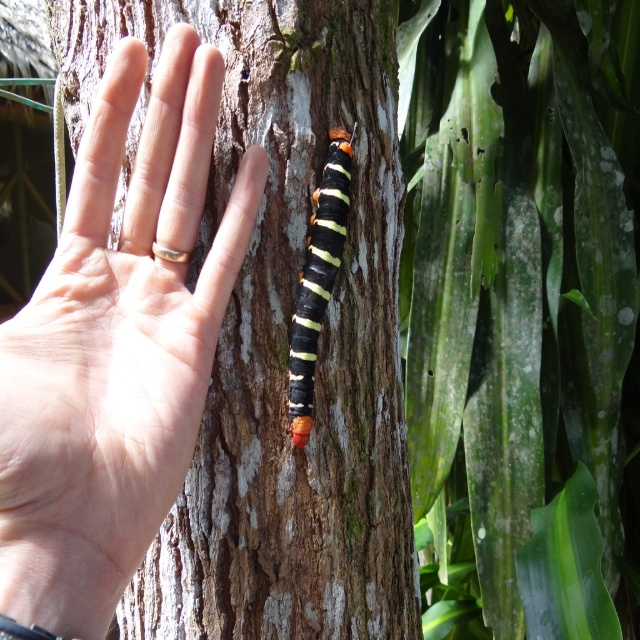Caterpillar: (286, 124, 356, 452)
